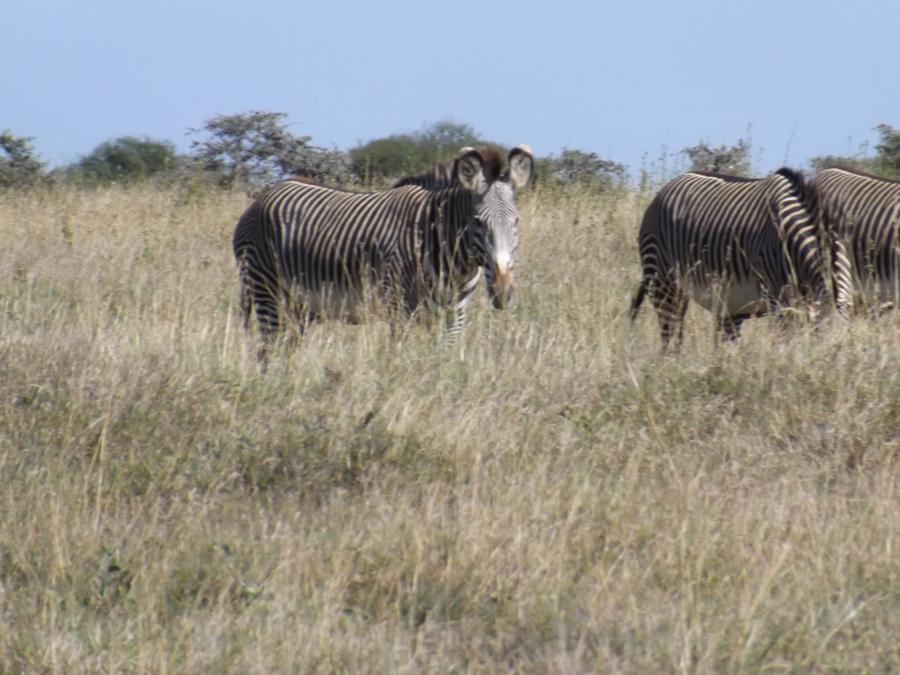zebra_grevys: (229, 150, 443, 317)
